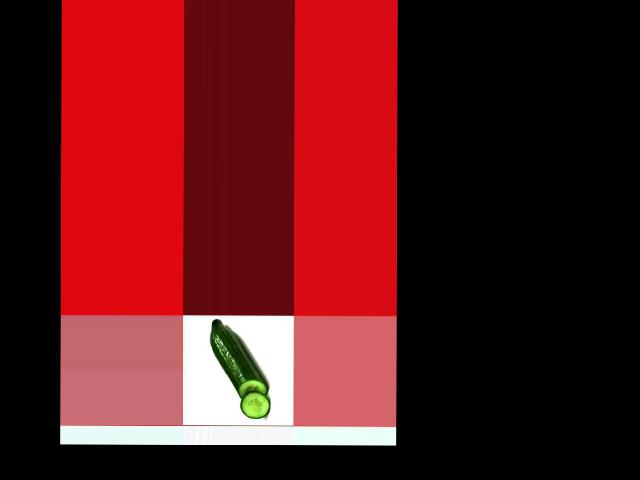cucumber: (210, 319, 268, 400)
